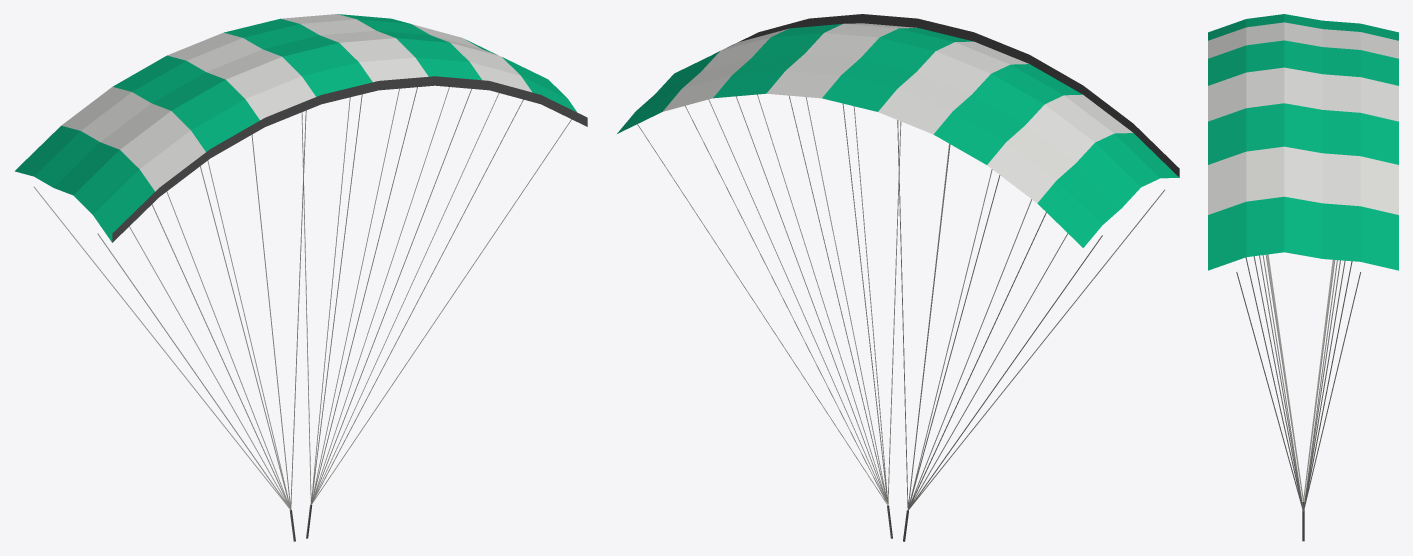
The model's file is parachute.glb.
3 views of the same model, side by side, from view 1: azimuth 30°, elevation 25°; view 2: azimuth 150°, elevation 25°; view 3: azimuth 270°, elevation 25° (orthographic). The views are drawn at different scales.
Visible parts, largest first — view 1: parachute; view 2: parachute; view 3: parachute.
Boxes of the visible parts, <box> form: parachute: <box>15,14,587,541</box>; parachute: <box>617,14,1179,541</box>; parachute: <box>1208,14,1398,541</box>.
Bounding box in the file's own units: 8.41 × 8.4 × 3.
